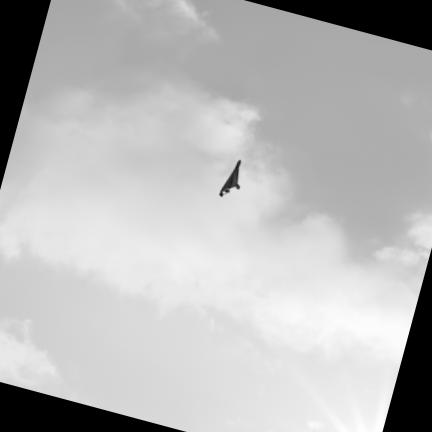Shahed: (221, 161, 241, 196)
